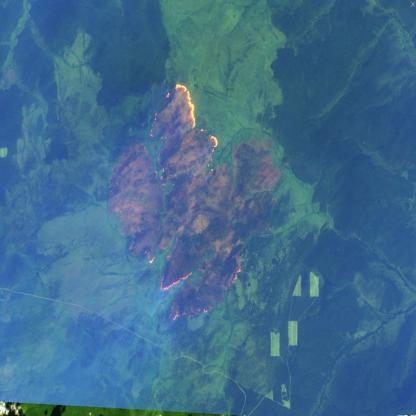fire: (146, 81, 220, 295)
